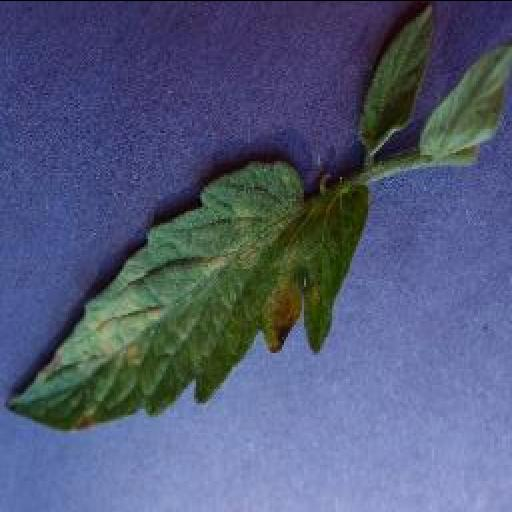disease_tomato: (7, 160, 369, 433)
